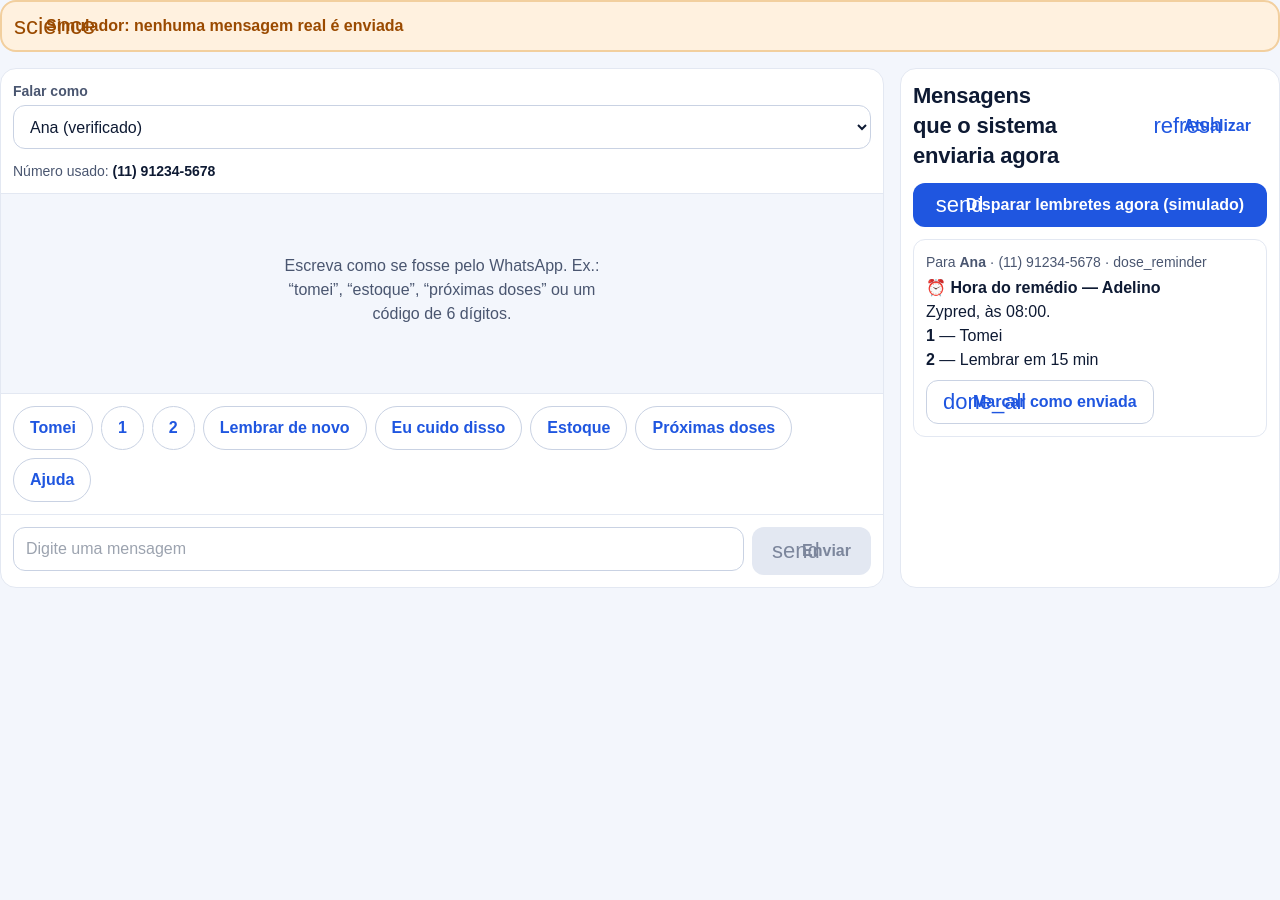
it: Lote 4A — Simulador de WhatsApp › 'Marcar como enviada' leva a mensagem para a conversa da pessoa
The width and height of the screenshot is (1280, 900).
Click the button "Marcar como enviada" at coordinates (1040, 402), box [926,380,1154,424]
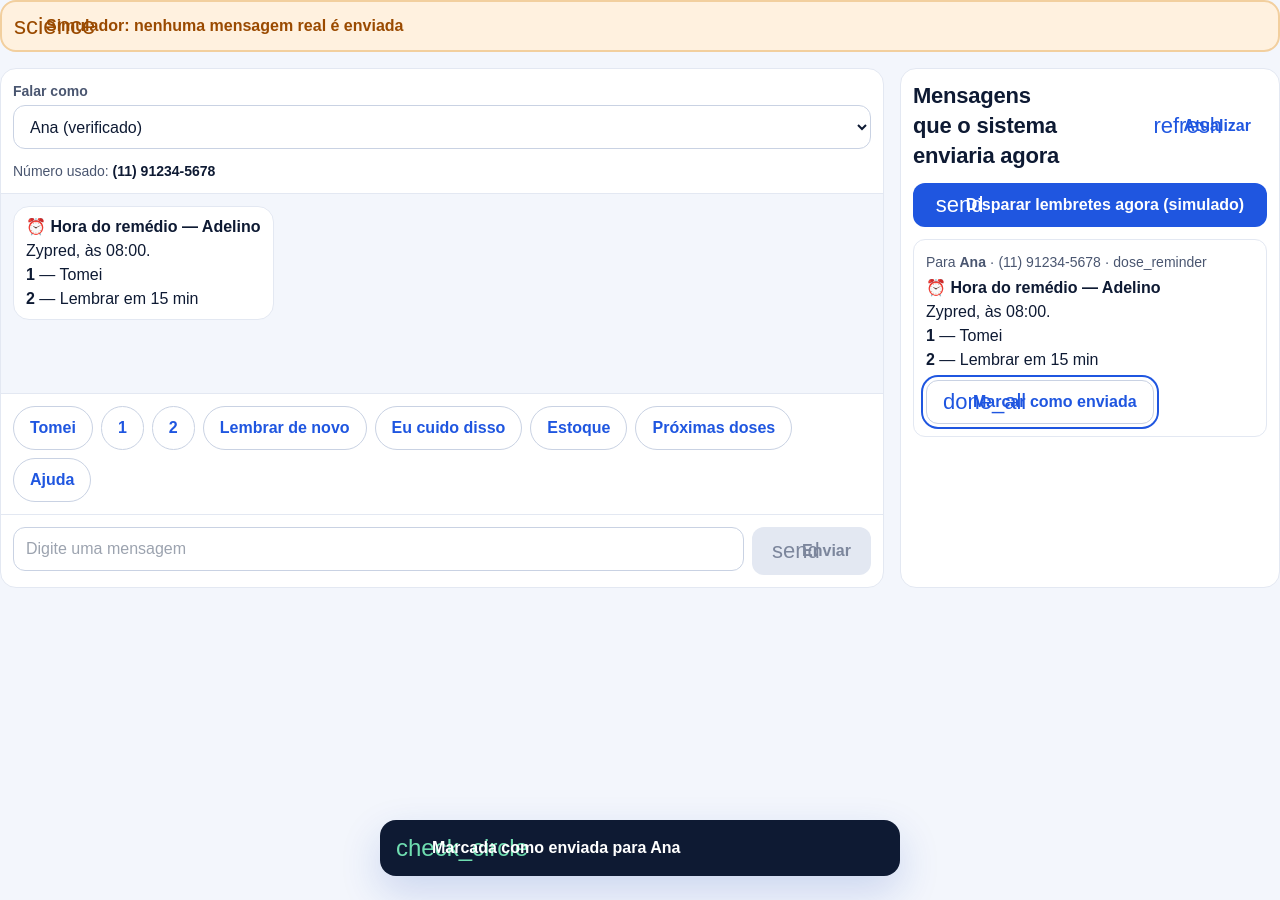
Now the text "Hora do remédio — Adelino" below "Número usado:" is shown, box [50,218,260,235]
